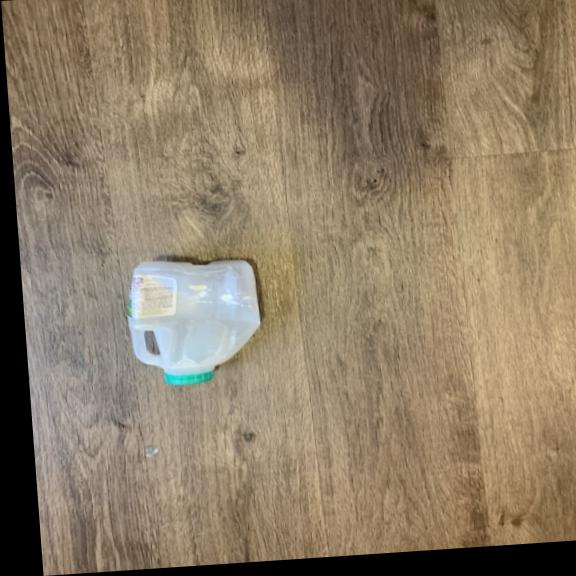Plastik: (119, 242, 275, 389)
